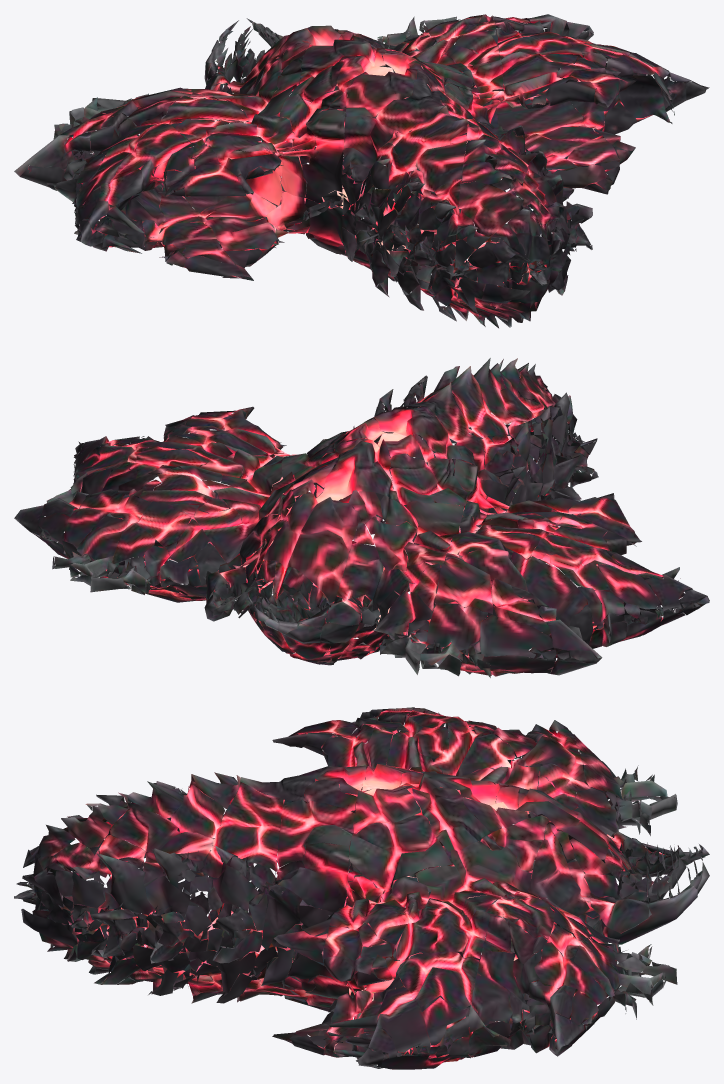
Rendered from vexor-partido.glb.
3 views of the same model, one above another, from view 1: azimuth 30°, elevation 25°; view 2: azimuth 150°, elevation 25°; view 3: azimuth 270°, elevation 25° (orthographic). The views are drawn at different scales.
Parts seen in each view (by area): view 1: vexor_cuerpo, vexor_ala_izq, vexor_ala_der; view 2: vexor_cuerpo, vexor_ala_izq, vexor_ala_der; view 3: vexor_cuerpo, vexor_ala_der, vexor_ala_izq.
Part boxes in pixels (x1=…): vexor_cuerpo: x1=193, y1=18, x2=592, y2=328; vexor_ala_izq: x1=14, y1=87, x2=318, y2=280; vexor_ala_der: x1=377, y1=14, x2=709, y2=194; vexor_cuerpo: x1=175, y1=358, x2=598, y2=665; vexor_ala_izq: x1=373, y1=493, x2=709, y2=677; vexor_ala_der: x1=14, y1=406, x2=316, y2=602; vexor_cuerpo: x1=14, y1=764, x2=709, y2=1011; vexor_ala_der: x1=272, y1=876, x2=677, y2=1069; vexor_ala_izq: x1=272, y1=707, x2=677, y2=892.
Size of the model in its own units: 1.91 by 0.5923 by 1.61.
Materials: 1 (1 with a texture image).
